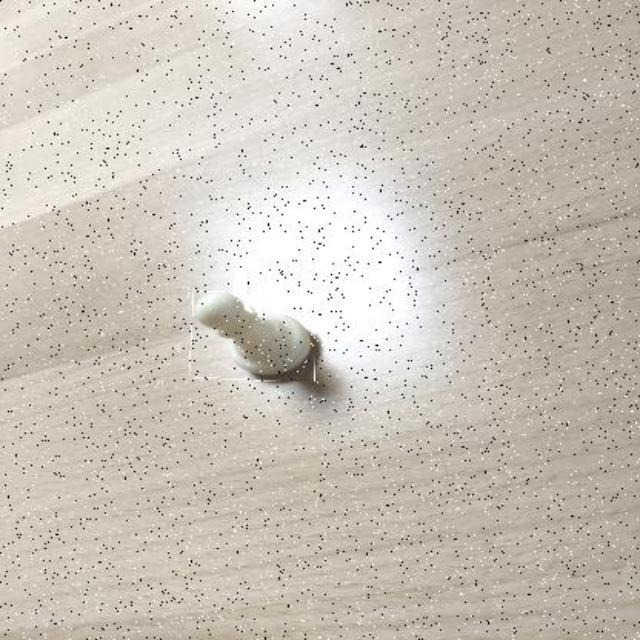white-pawn: (190, 292, 316, 381)
